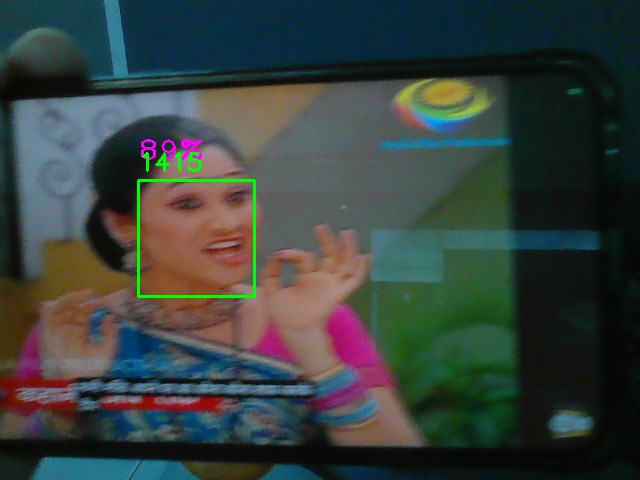fake: (138, 180, 255, 297)
